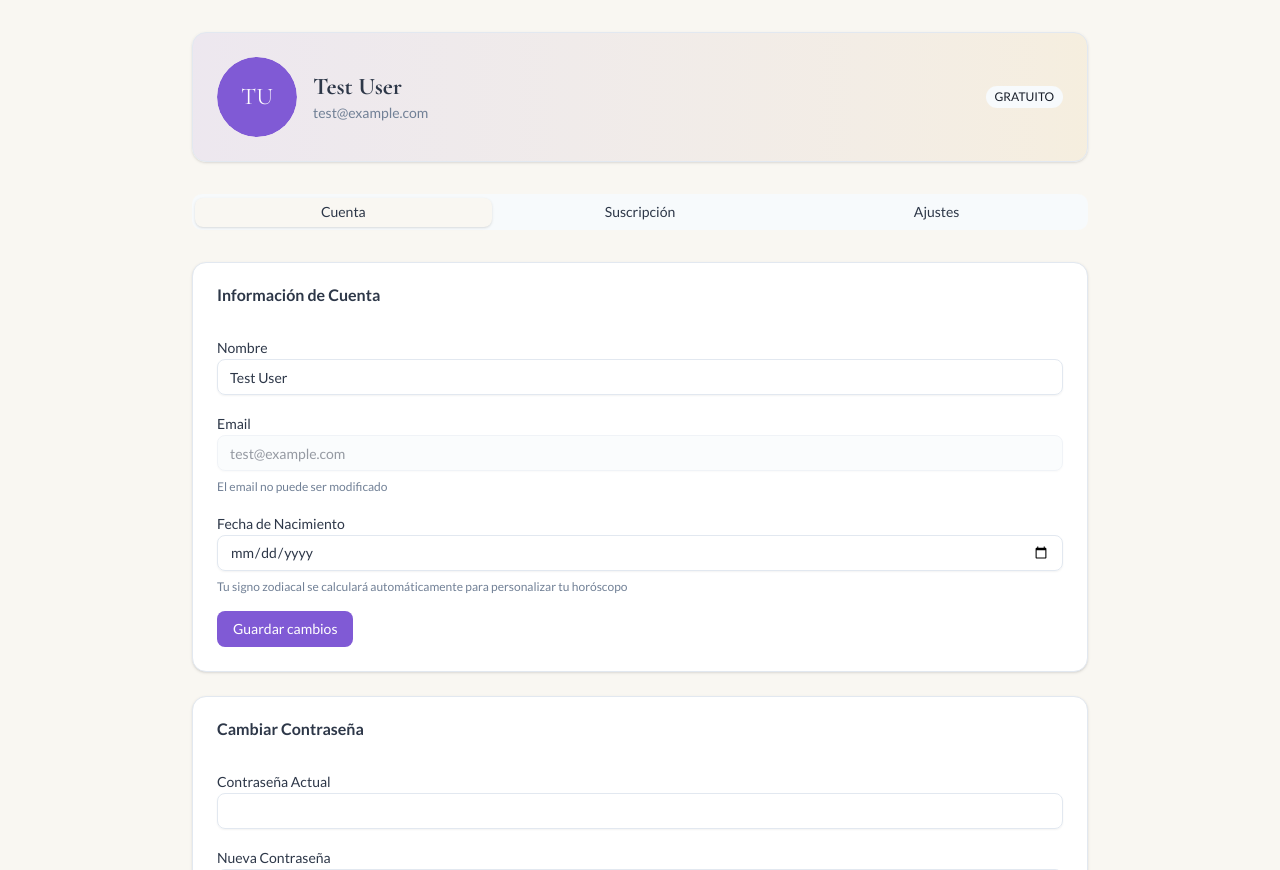
Scenario: PerfilPage › Tab Interactions › should switch to settings tab when clicked
This screenshot has width=1280, height=870.
expect the tab "Cuenta" is shown: met, box [195,198,492,226]
Click the tab "Ajustes" at point(937, 212), box [788,198,1085,226]
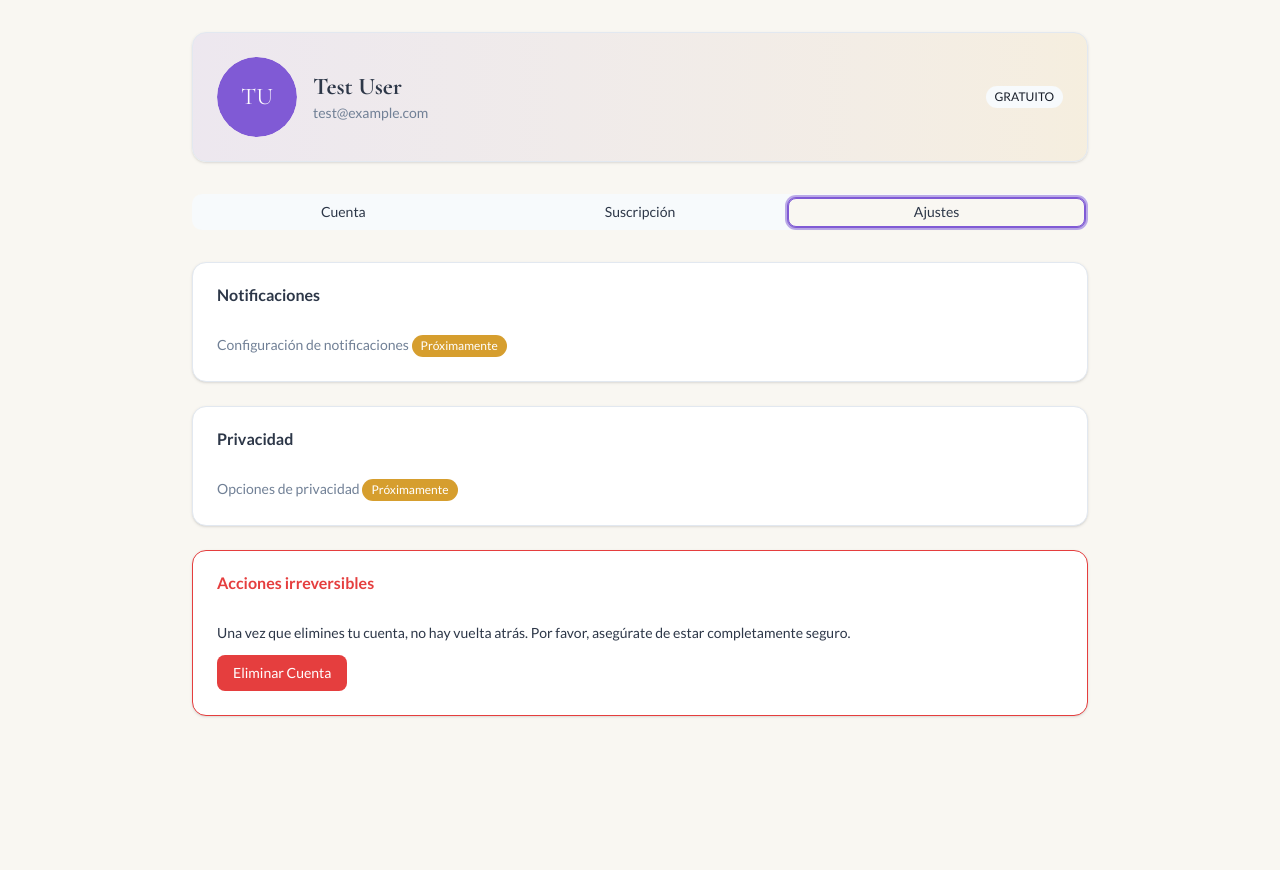
expect the text "Notificaciones" is shown: met, box [217,285,320,304]
expect the text "Privacidad" is shown: met, box [217,429,293,448]
expect the text "Acciones irreversibles" is shown: met, box [217,573,374,592]
